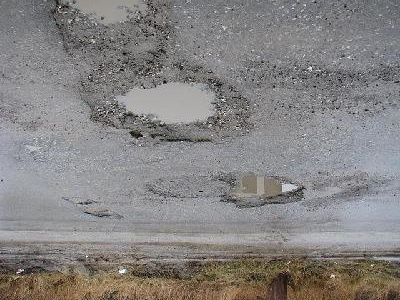pothole: (73, 58, 255, 148), (47, 0, 178, 55), (218, 169, 308, 210), (81, 208, 122, 222), (62, 195, 97, 207)
